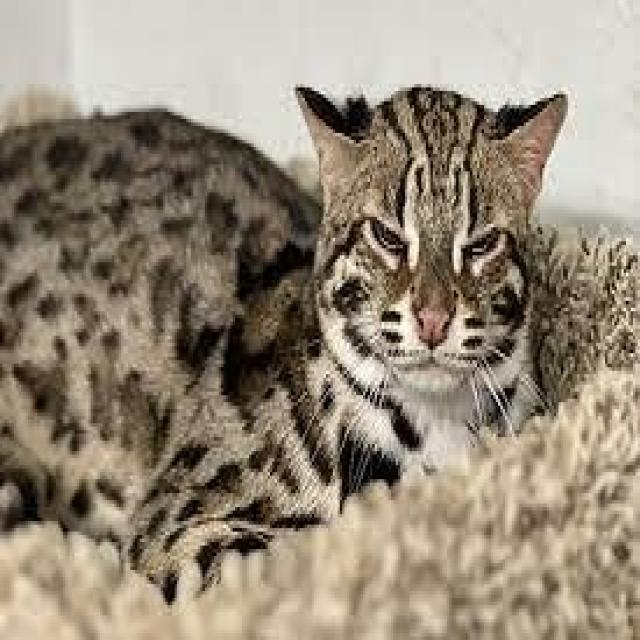leopard: (85, 73, 575, 490)
